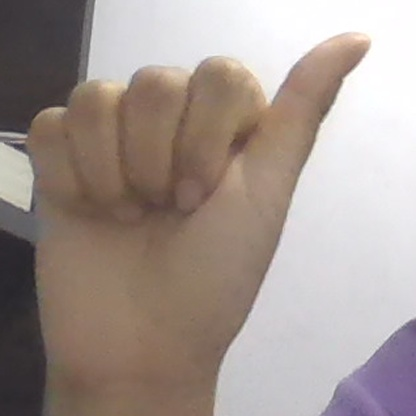A: (28, 33, 370, 388)
